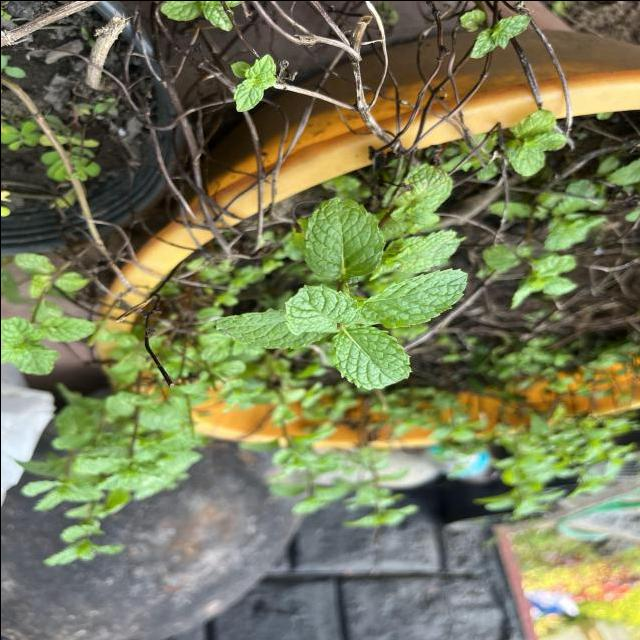Mentha spicata: (301, 194, 386, 279), (356, 266, 468, 328), (329, 322, 413, 390), (213, 306, 329, 348), (282, 282, 360, 335)
